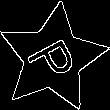P_NE: (22, 30, 83, 87)
